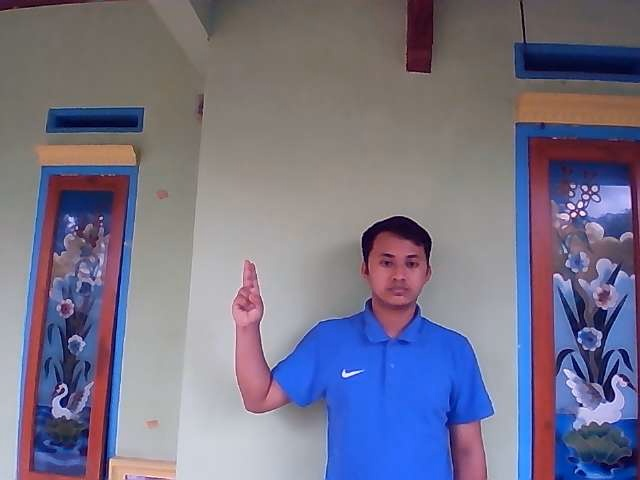U: (231, 259, 264, 325)
